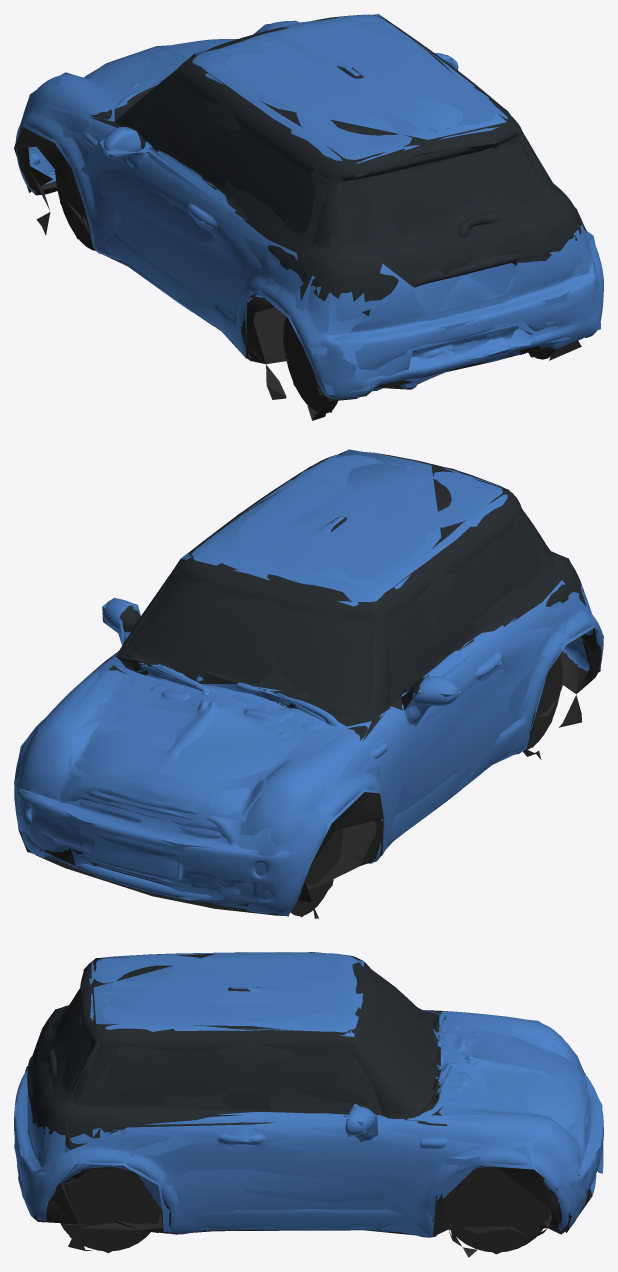
The model's file is mini-cooper.glb.
3 views of the same model, one above another, from view 1: azimuth 30°, elevation 25°; view 2: azimuth 150°, elevation 25°; view 3: azimuth 270°, elevation 25° (orthographic). The views are drawn at different scales.
Visible parts, largest first — view 1: body, far; view 2: body, far; view 3: body, far.
Boxes of the visible parts, left/top/right/bottom form: body: left=15, top=14, right=603, bottom=420; far: left=14, top=14, right=600, bottom=412; body: left=14, top=451, right=603, bottom=918; far: left=14, top=449, right=603, bottom=917; body: left=14, top=952, right=603, bottom=1257; far: left=14, top=952, right=602, bottom=1254.
Bounding box in the file's own units: 2.25 × 1.56 × 3.75.
